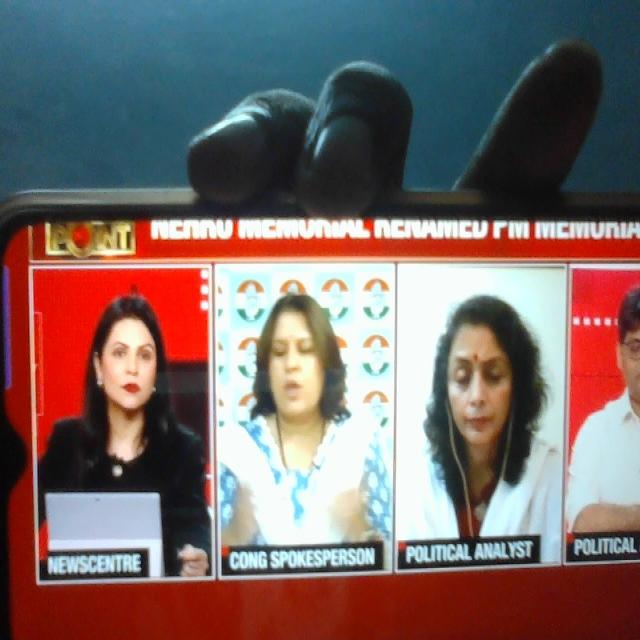fake: (425, 288, 529, 484)
